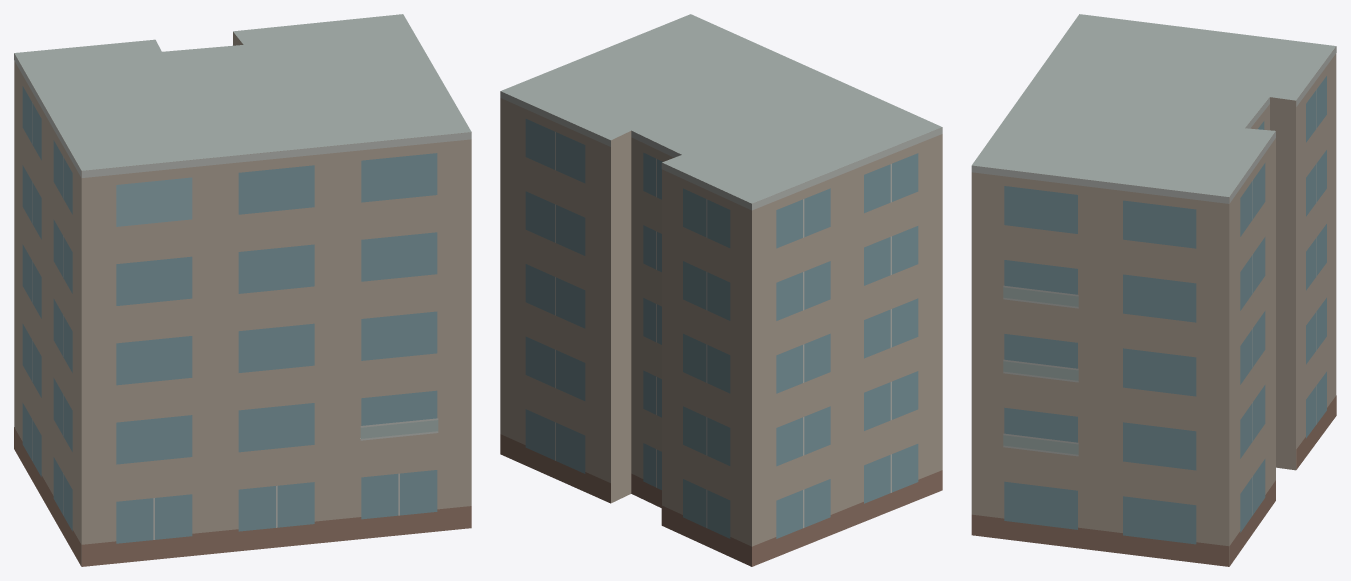
The model's file is survey-upis-32879702.glb.
3 views of the same model, side by side, from view 1: azimuth 30°, elevation 25°; view 2: azimuth 150°, elevation 25°; view 3: azimuth 270°, elevation 25° (orthographic). The views are drawn at different scales.
Visible parts, largest first — view 1: survey-upis-32879702.tmp; view 2: survey-upis-32879702.tmp; view 3: survey-upis-32879702.tmp.
Part boxes in pixels (x1,y1,x2,y2): survey-upis-32879702.tmp: (14, 14, 471, 566); survey-upis-32879702.tmp: (500, 14, 942, 566); survey-upis-32879702.tmp: (971, 14, 1336, 566).
Bounding box in the file's own units: 14.03 × 13.2 × 11.82.
